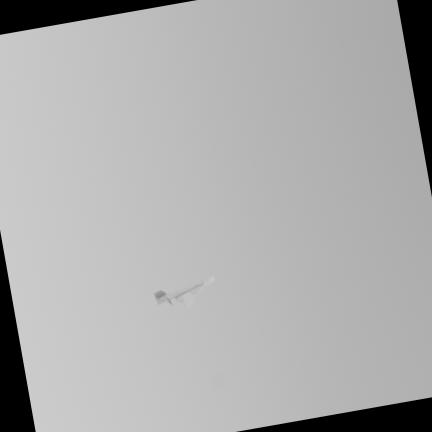Shahed: (154, 278, 213, 308)
